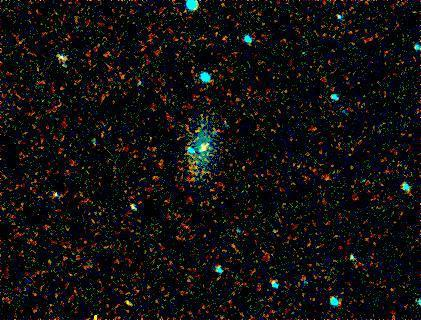star: (192, 133, 222, 163)
